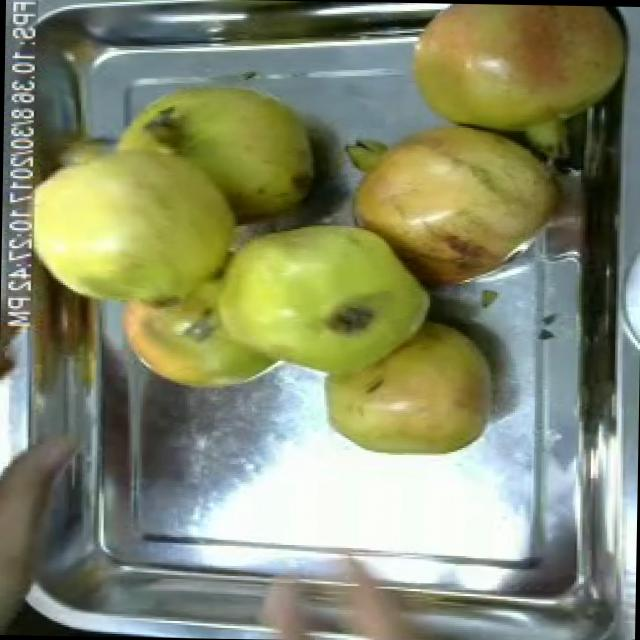fruit: (317, 100, 587, 323), (385, 1, 640, 151), (300, 306, 514, 468)
